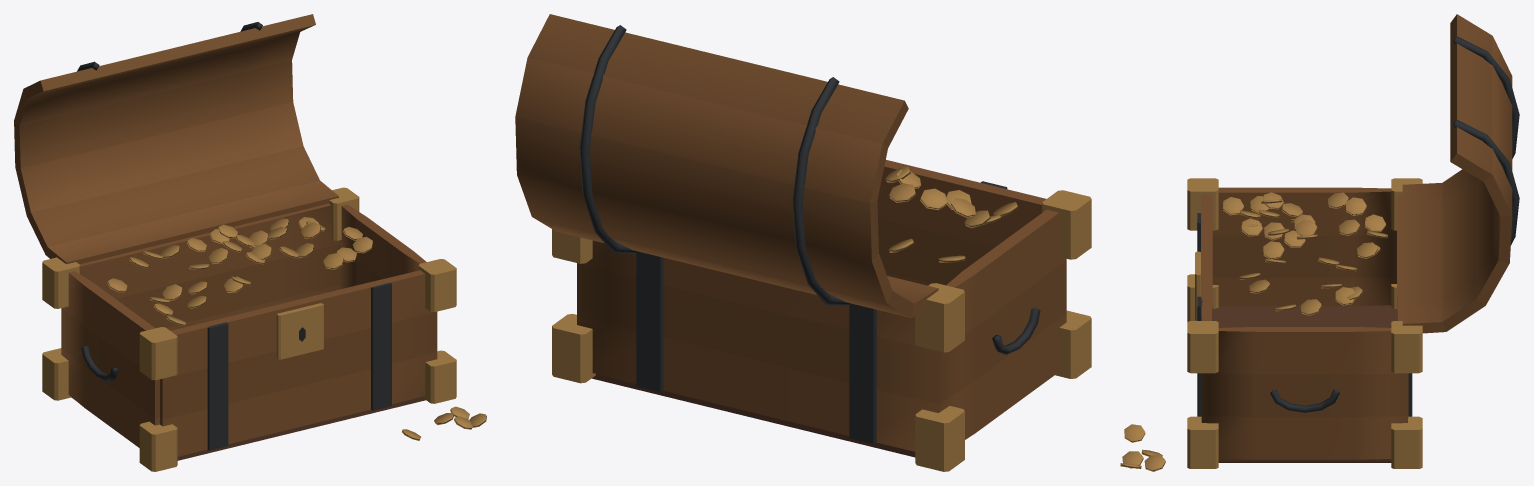
Rendered from prop_treasure_chest_a.glb.
3 views of the same model, side by side, from view 1: azimuth 30°, elevation 25°; view 2: azimuth 150°, elevation 25°; view 3: azimuth 270°, elevation 25° (orthographic). The views are drawn at different scales.
Parts seen in each view (by area): view 1: prop_treasure_chest_a_mesh; view 2: prop_treasure_chest_a_mesh; view 3: prop_treasure_chest_a_mesh.
Boxes of the visible parts, bbox=[...] form: prop_treasure_chest_a_mesh: bbox=[14, 14, 486, 471]; prop_treasure_chest_a_mesh: bbox=[515, 14, 1091, 471]; prop_treasure_chest_a_mesh: bbox=[1120, 14, 1519, 471].
Bounding box in the file's own units: 0.9427 × 0.8993 × 1.02.
